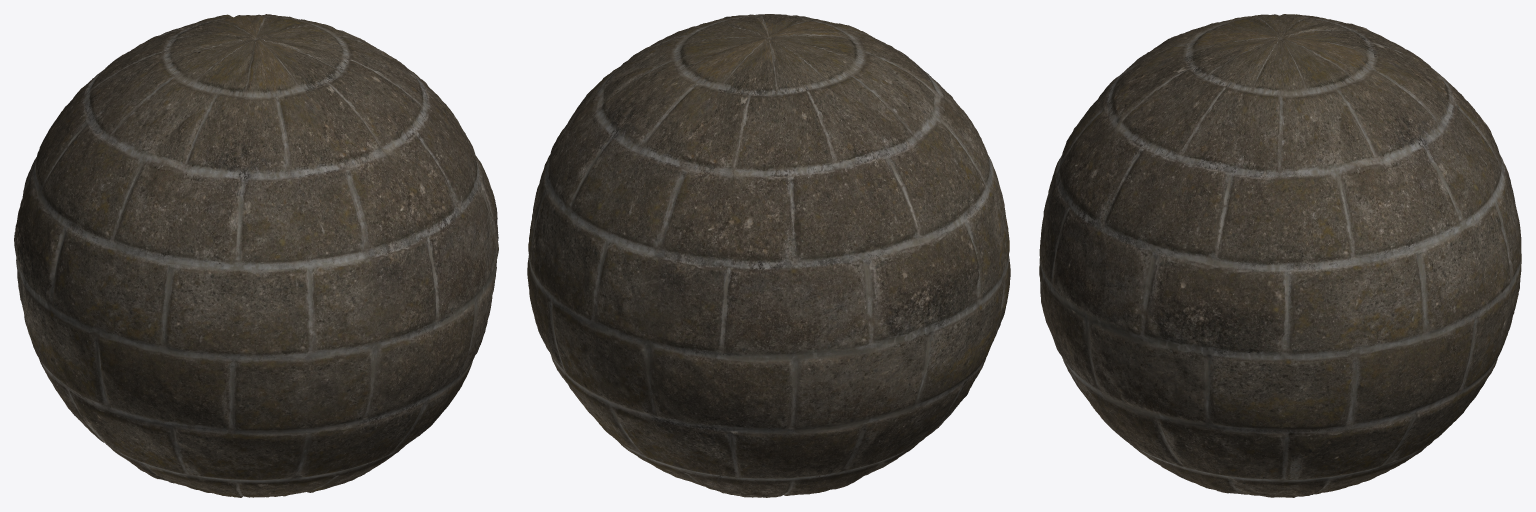
Rendered from stone_wall_05_1k.gltf.
3 renders of one model, left to right at view 1: azimuth 30°, elevation 25°; view 2: azimuth 150°, elevation 25°; view 3: azimuth 270°, elevation 25°, orthographic.
Parts seen in each view (by area): view 1: sphere_gltf; view 2: sphere_gltf; view 3: sphere_gltf.
Part boxes in pixels (x1,y1,x2,y2): sphere_gltf: (14, 14, 498, 497); sphere_gltf: (527, 14, 1010, 497); sphere_gltf: (1039, 14, 1521, 497).
Size of the model in its own units: 2.12 by 2.12 by 2.12.
Materials: 1 (1 with a texture image).
